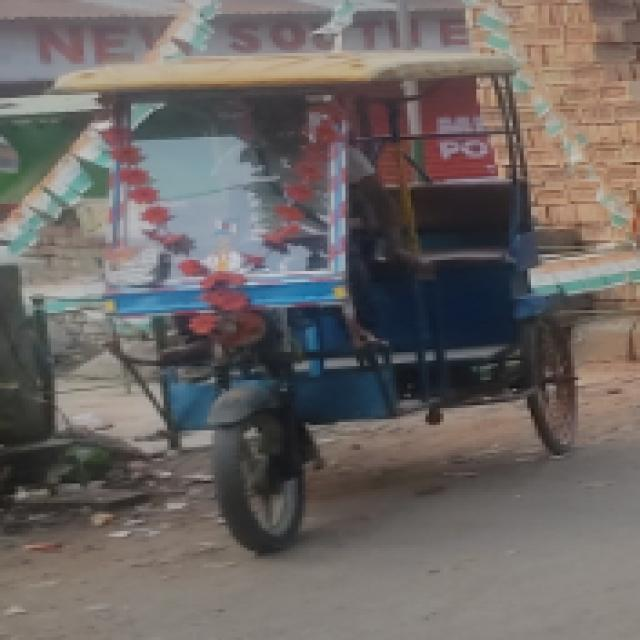rickshaw: (62, 48, 585, 556)
